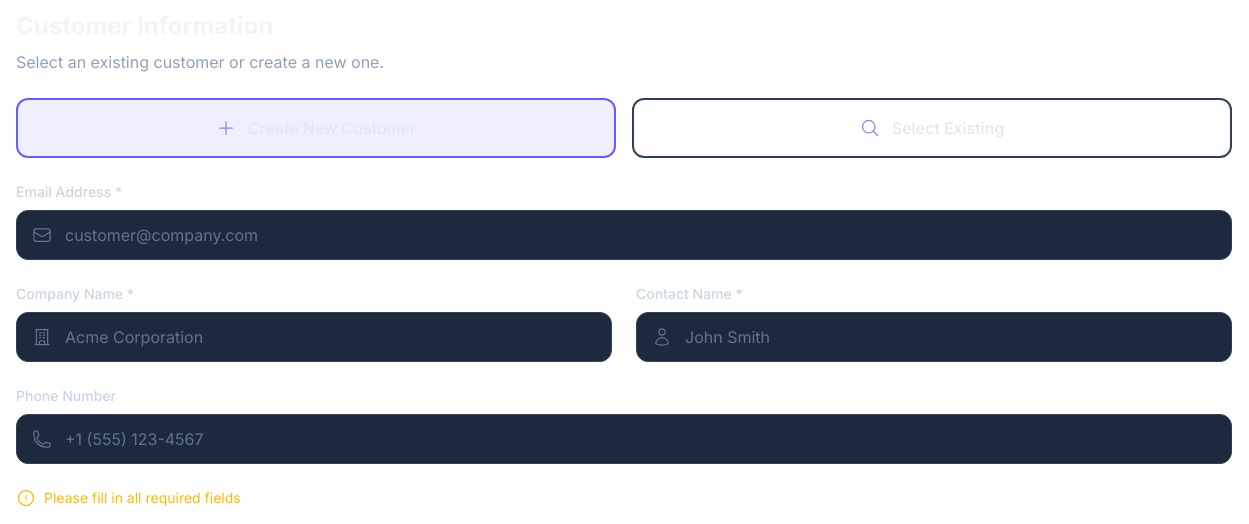
Test: CustomerInfoStep › shows search input when selecting existing customer
Click the button "Select Existing": (932, 128) left=632, top=98, right=1232, bottom=158
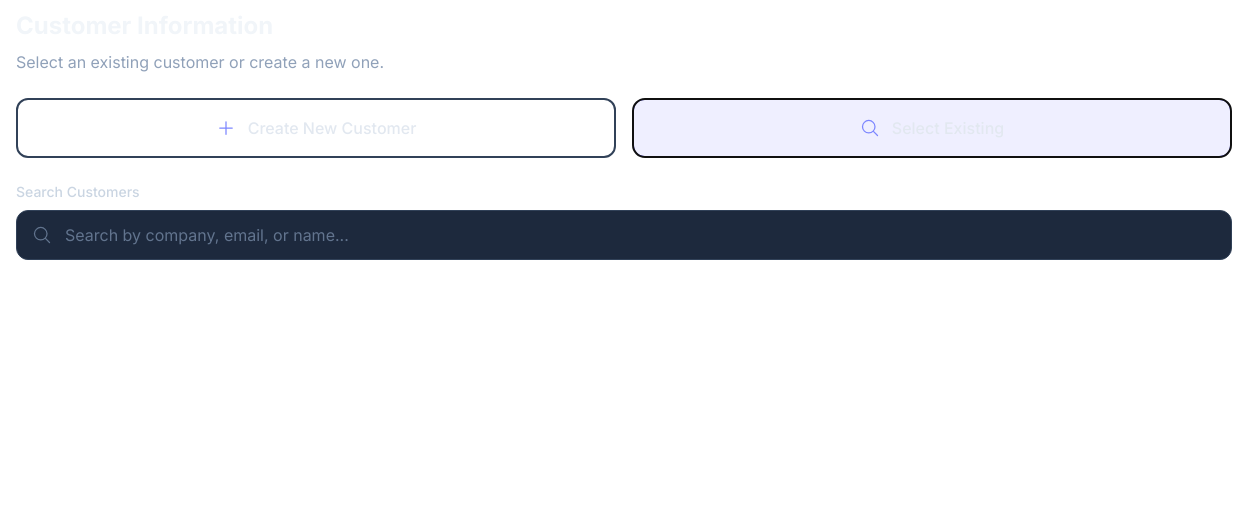
expect the field with test id "customer-search-input" is shown: met, box left=16, top=210, right=1232, bottom=260
